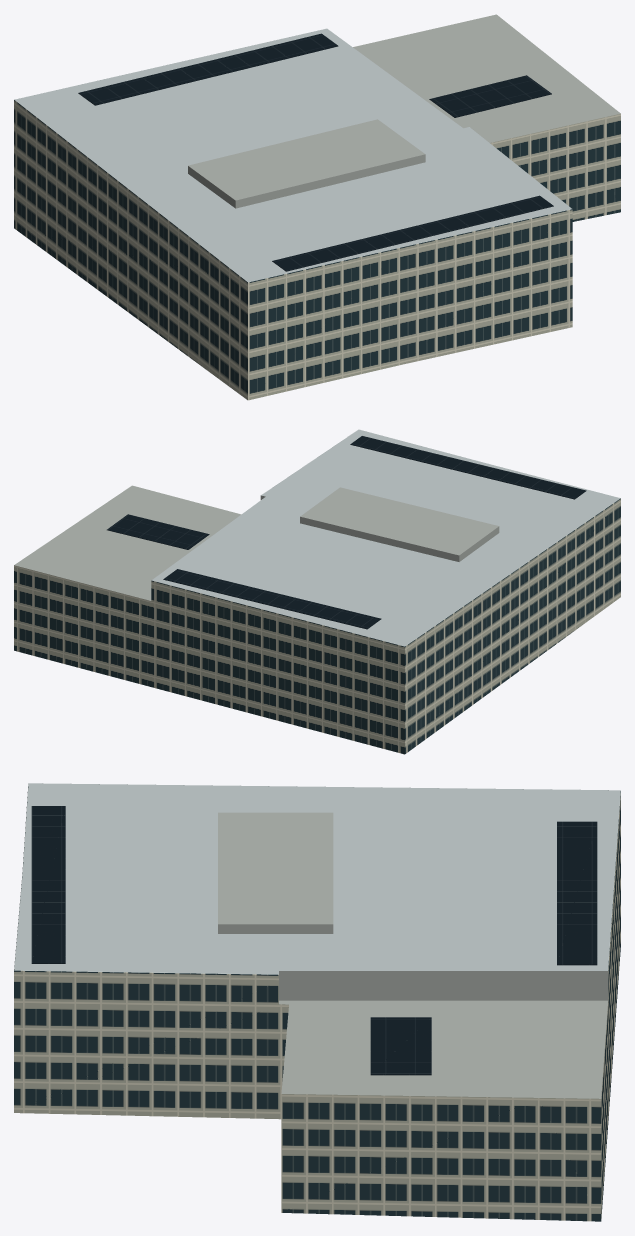
Rendered from intact.glb.
The picture shows the model from 3 angles, top to bottom: view 1: azimuth 30°, elevation 25°; view 2: azimuth 150°, elevation 25°; view 3: azimuth 270°, elevation 25°; orthographic projection. The views are drawn at different scales.
Parts seen in each view (by area): view 1: Practice_Intact; view 2: Practice_Intact; view 3: Practice_Intact.
Boxes of the visible parts, bbox=[...] form: Practice_Intact: bbox=[14, 14, 620, 400]; Practice_Intact: bbox=[14, 429, 620, 754]; Practice_Intact: bbox=[14, 783, 620, 1221].
Size of the model in its own units: 2.8 by 0.7523 by 2.51.
4 materials, 2 textured.
